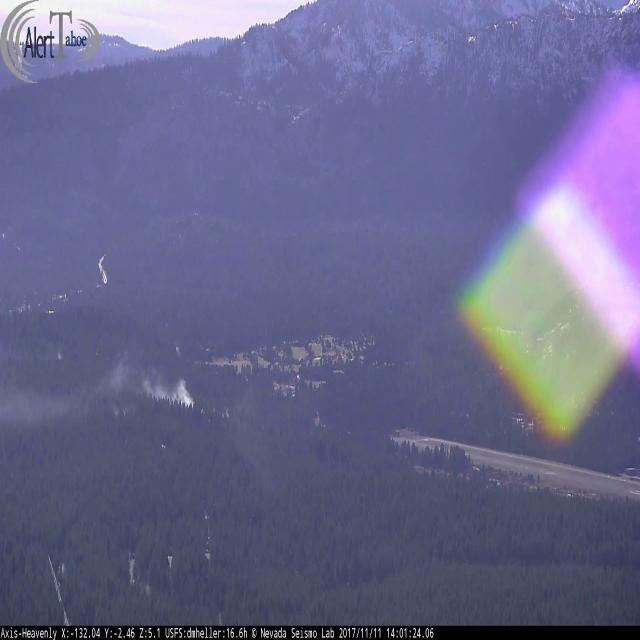smoke: (0, 345, 196, 436), (0, 348, 65, 362)
